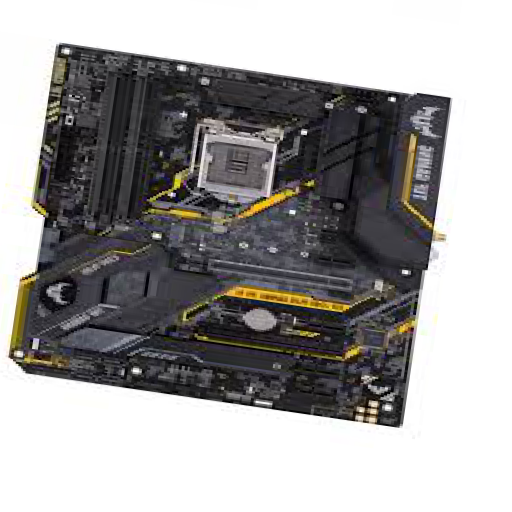CPU: (195, 118, 284, 206)
GPU: (177, 251, 353, 295), (179, 320, 347, 356)
MOTHERBOARD: (15, 44, 451, 428)
RAM: (84, 66, 145, 223)
SSD: (169, 220, 186, 248)
